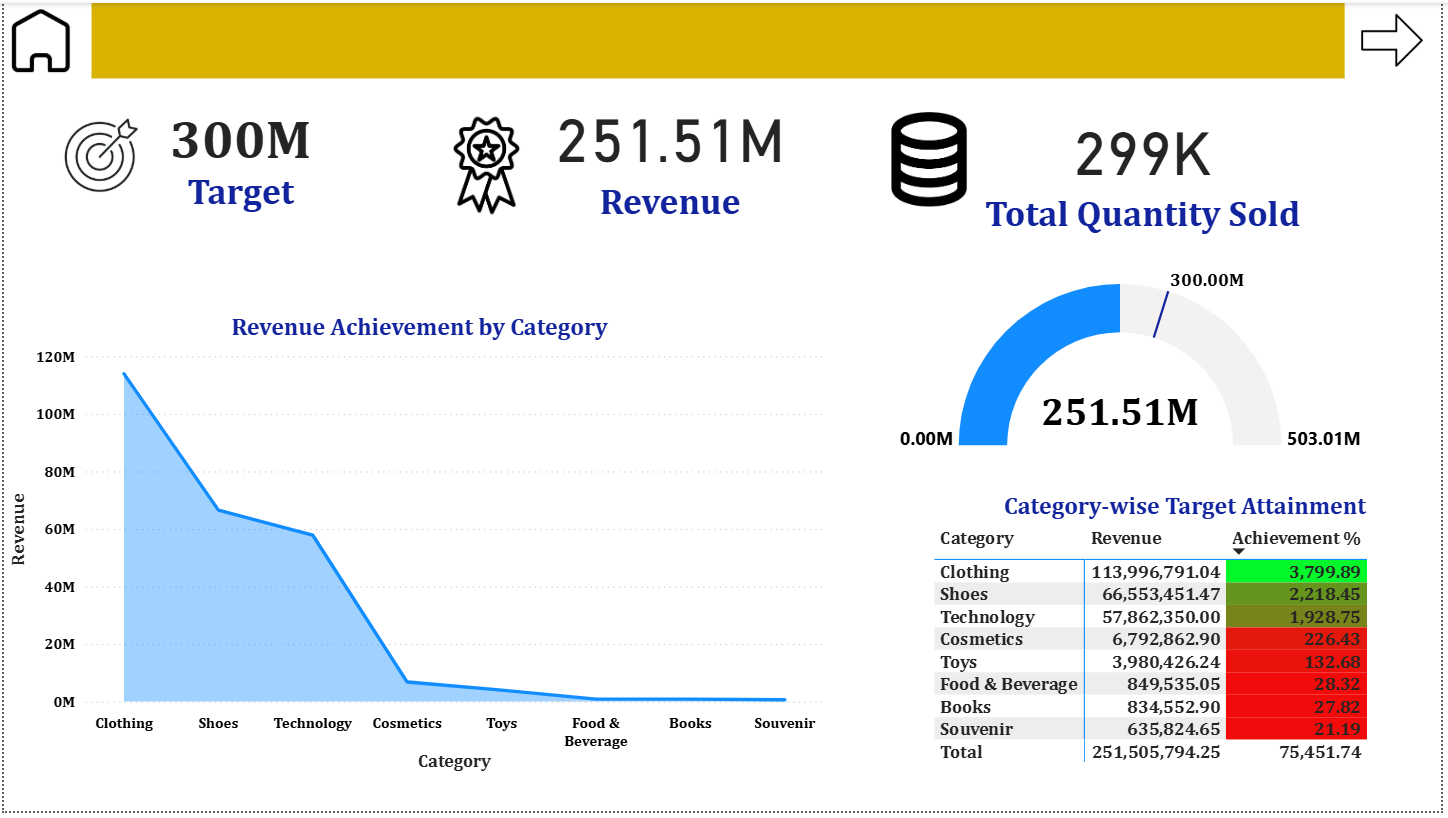

Layout of this report page (visuals, bound fields, positions):
{"tool":"powerbi","page":{"name":"Overview","canvas":[1280,720],"ordinal":1},"visuals":[{"type":"textbox","box":[77.9,0,1115.8,67.1],"z":0},{"type":"image","box":[0,0,65.9,67.1],"z":1000},{"type":"image","box":[1193.7,0,86.3,70.7],"z":2000},{"type":"textbox","box":[0,88,421.3,114],"z":3000},{"type":"image","box":[33.2,82.2,106.8,106.8],"z":4000},{"type":"card","title":"Achievement","fields":{"Values":["Sheet1.Revenue"]},"box":[327.5,67.8,532.4,134.2],"z":5000},{"type":"image","box":[327.5,88,204.9,114],"z":6000},{"type":"card","fields":{"Values":["Sheet1.Total Quantity Sold"]},"box":[833.9,67.8,360.7,155.8],"z":7000},{"type":"image","box":[740.1,92.3,167.4,93.8],"z":8000},{"type":"areaChart","title":"Revenue Achievement by Category","fields":{"Category":["Sheet1.category"],"Y":["Sheet1.Revenue"]},"box":[0,275.6,740.1,412.6],"z":9000},{"type":"pivotTable","title":"Category-wise Target Attainment","fields":{"Rows":["Sheet1.category"],"Values":["Sheet1.Revenue","Sheet1.Achievement %"]},"box":[823.8,435.7,455.9,284.2],"z":10000},{"type":"gauge","fields":{"Y":["Sheet1.Revenue"]},"box":[770.4,223.6,466,180.3],"z":11000}]}

Visuals, with their boxes in screenshot pixels (x1, y1, x2, y2), scaled from the page's 1280x720 canvas onto the 1448x818 screenshot:
textbox: (left=88, top=0, right=1350, bottom=76)
image: (left=0, top=0, right=75, bottom=76)
image: (left=1350, top=0, right=1447, bottom=80)
textbox: (left=0, top=100, right=477, bottom=229)
image: (left=38, top=93, right=158, bottom=215)
"Achievement" card: (left=370, top=77, right=973, bottom=229)
image: (left=370, top=100, right=602, bottom=229)
card - Sheet1.Total Quantity Sold: (left=943, top=77, right=1351, bottom=254)
image: (left=837, top=105, right=1027, bottom=211)
"Revenue Achievement by Category" areaChart: (left=0, top=313, right=837, bottom=782)
"Category-wise Target Attainment" pivotTable: (left=932, top=495, right=1447, bottom=817)
gauge - Sheet1.Revenue: (left=872, top=254, right=1399, bottom=459)
